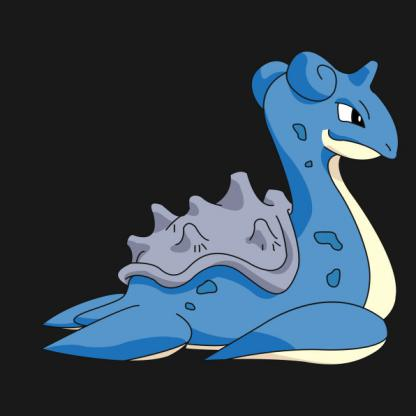Lapras: (40, 58, 416, 372)
